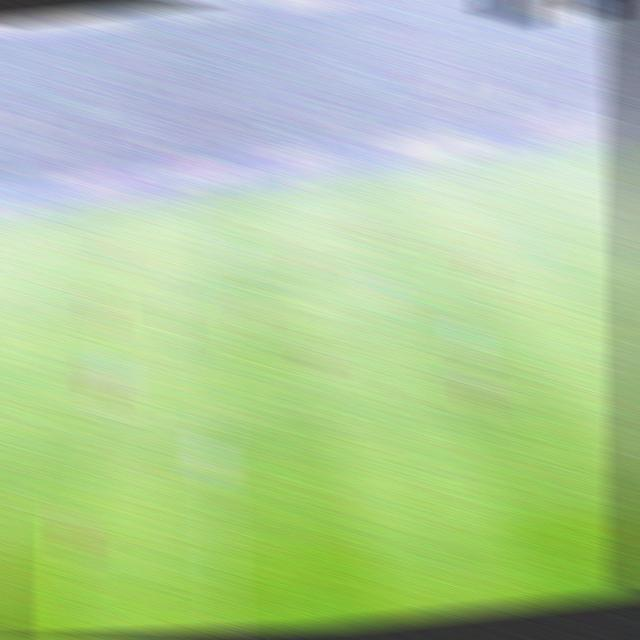bigarea_top_inner: (612, 176, 638, 204)
halfcircle_bottom: (192, 399, 237, 438)
halfcircle_top: (188, 281, 227, 311)
midline_top_intersection: (185, 188, 218, 215)
